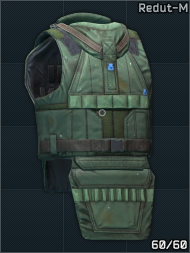FORT Redut-M body armor: (0, 0, 190, 253)
